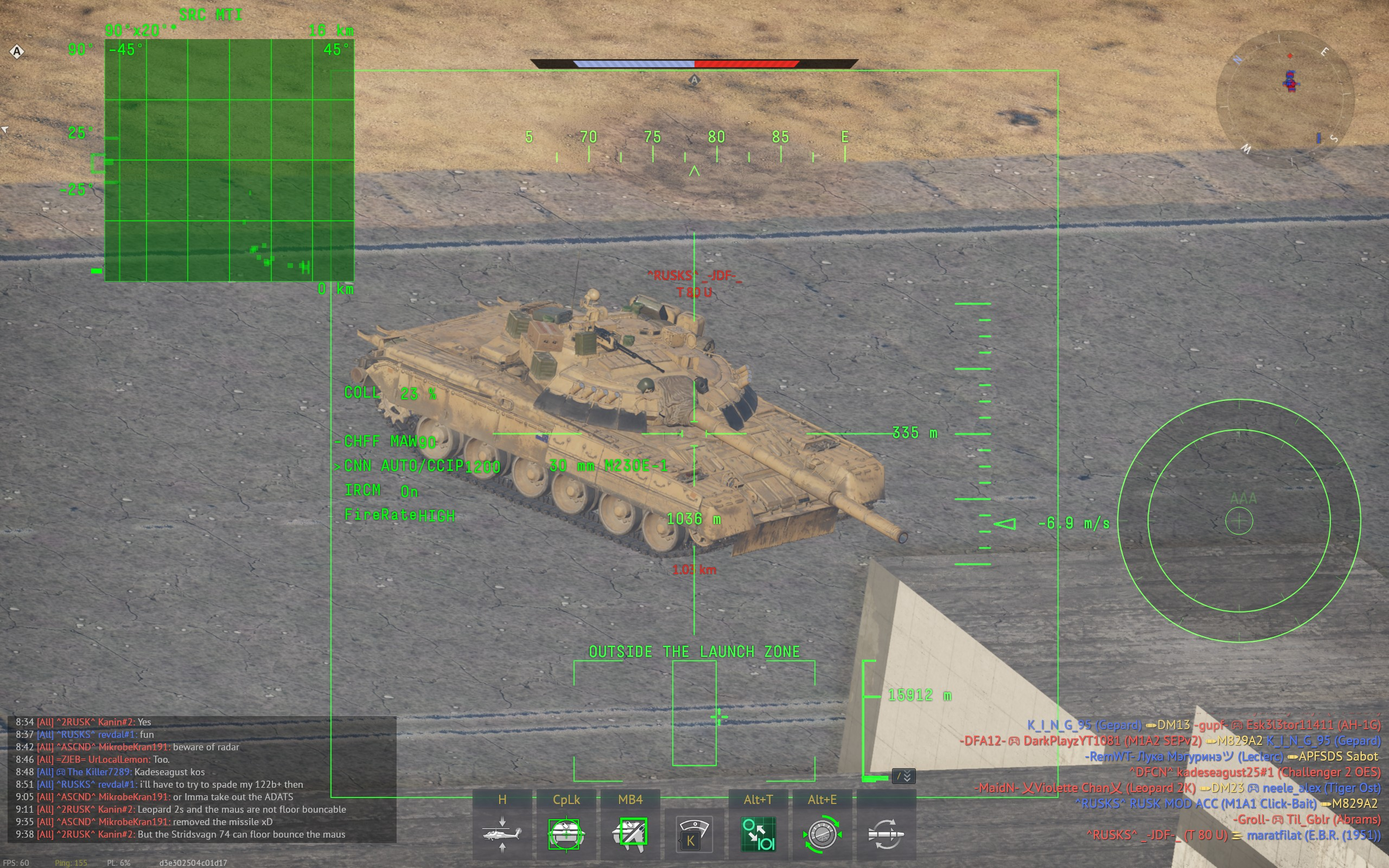t-80u: (354, 287, 909, 560)
